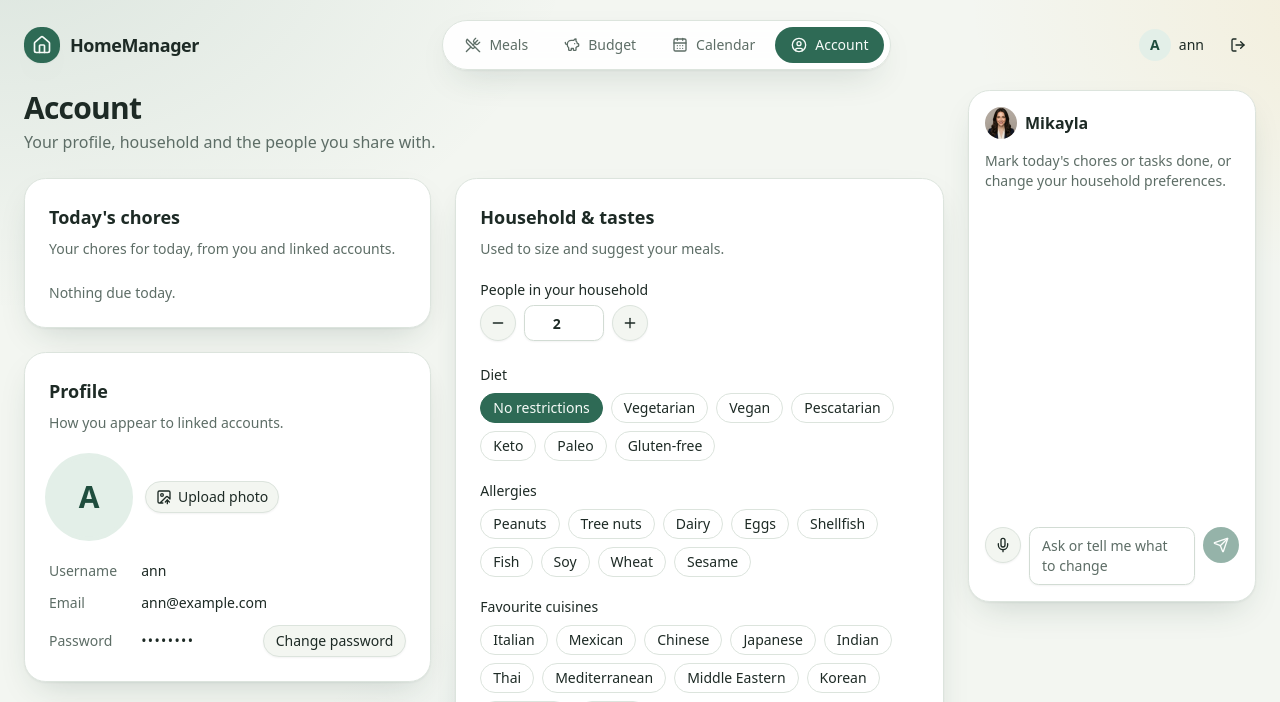
Test: AccountPage › rejects a short new password
Click the button "Change password" at (334, 641), box [263, 625, 406, 657]
(page scrolled)
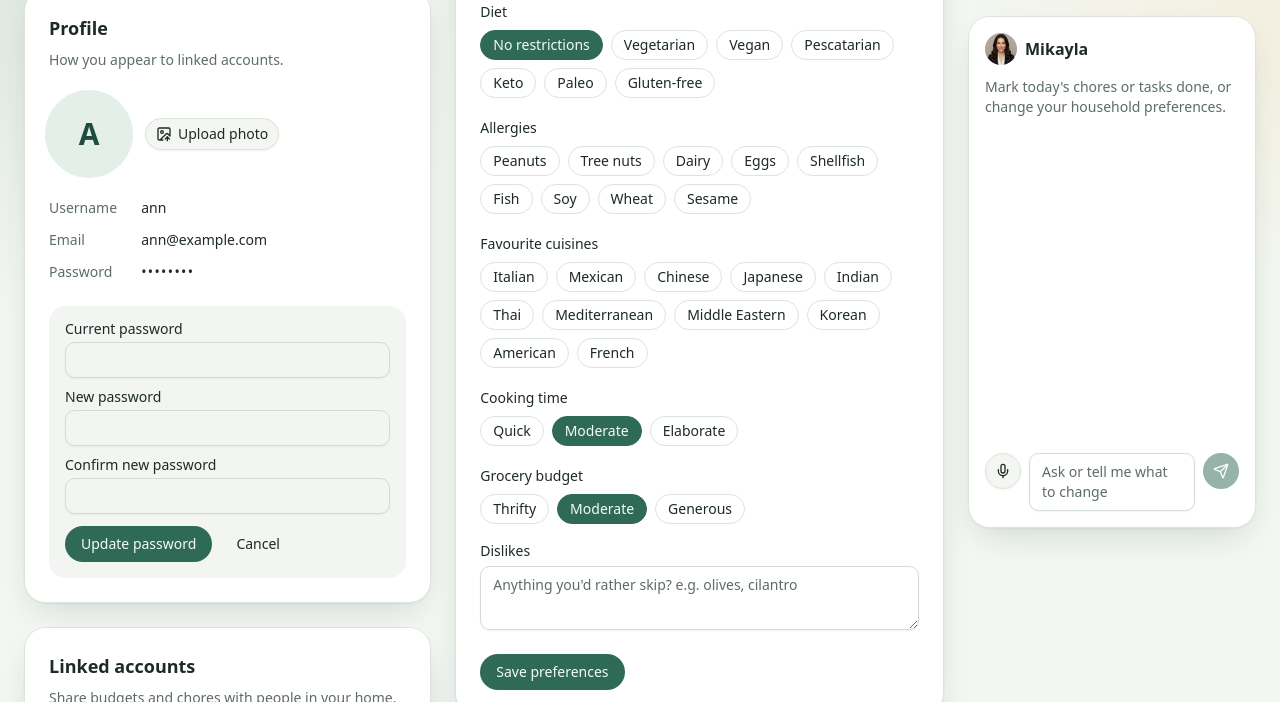
Type "old-password" into the password field labelled "Current password" at (228, 360), box [65, 342, 390, 378]
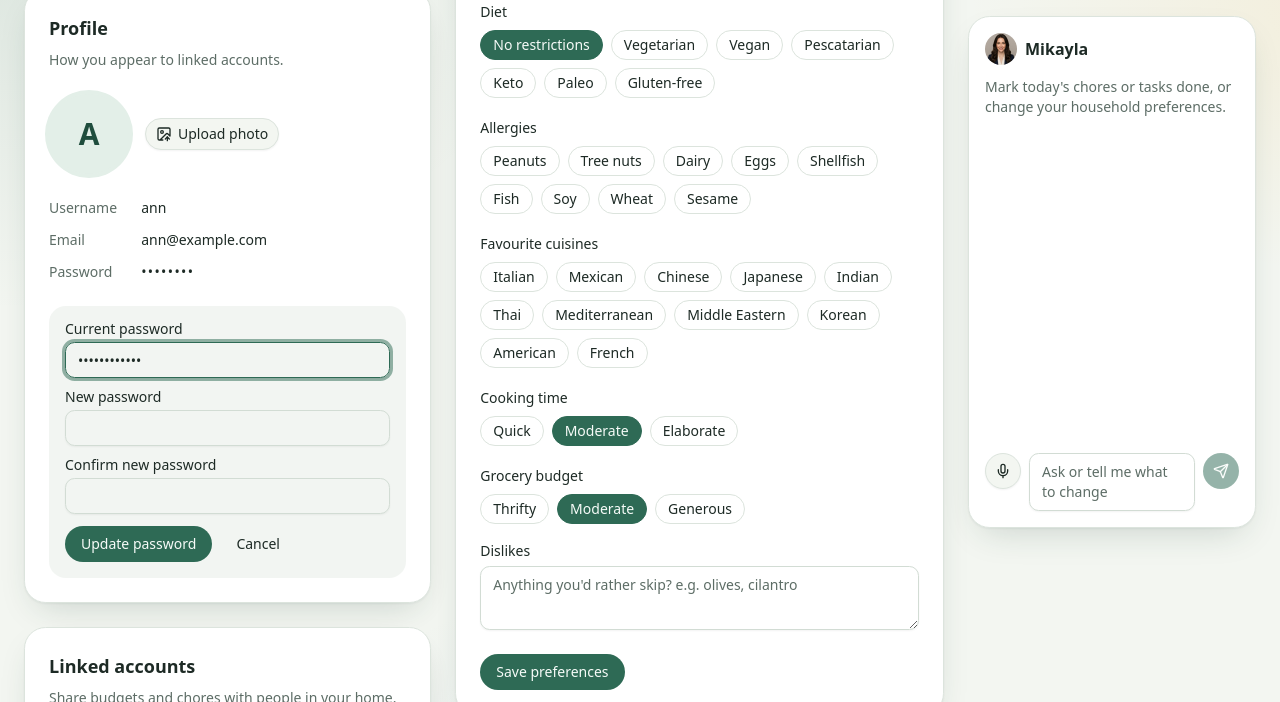
Type "short" into the password field labelled "New password" at (228, 428), box [65, 410, 390, 446]
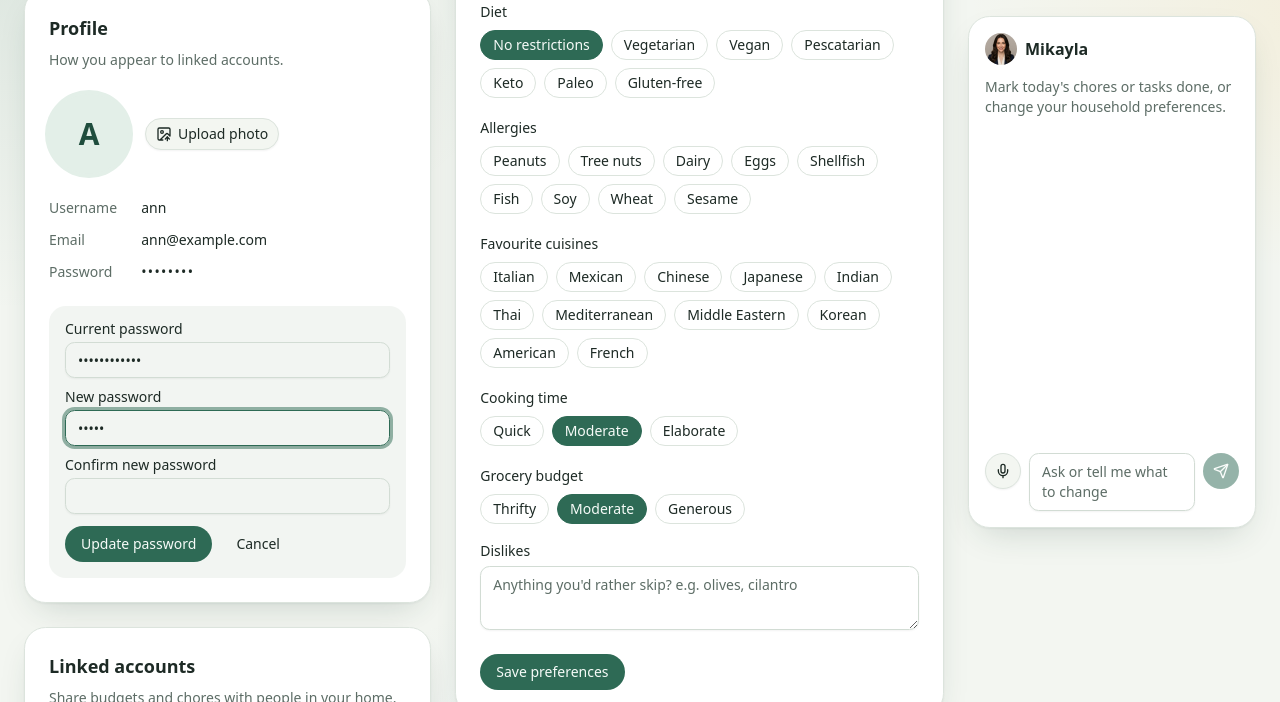
Type "short" into the password field labelled "Confirm new password" at (228, 496), box [65, 478, 390, 514]
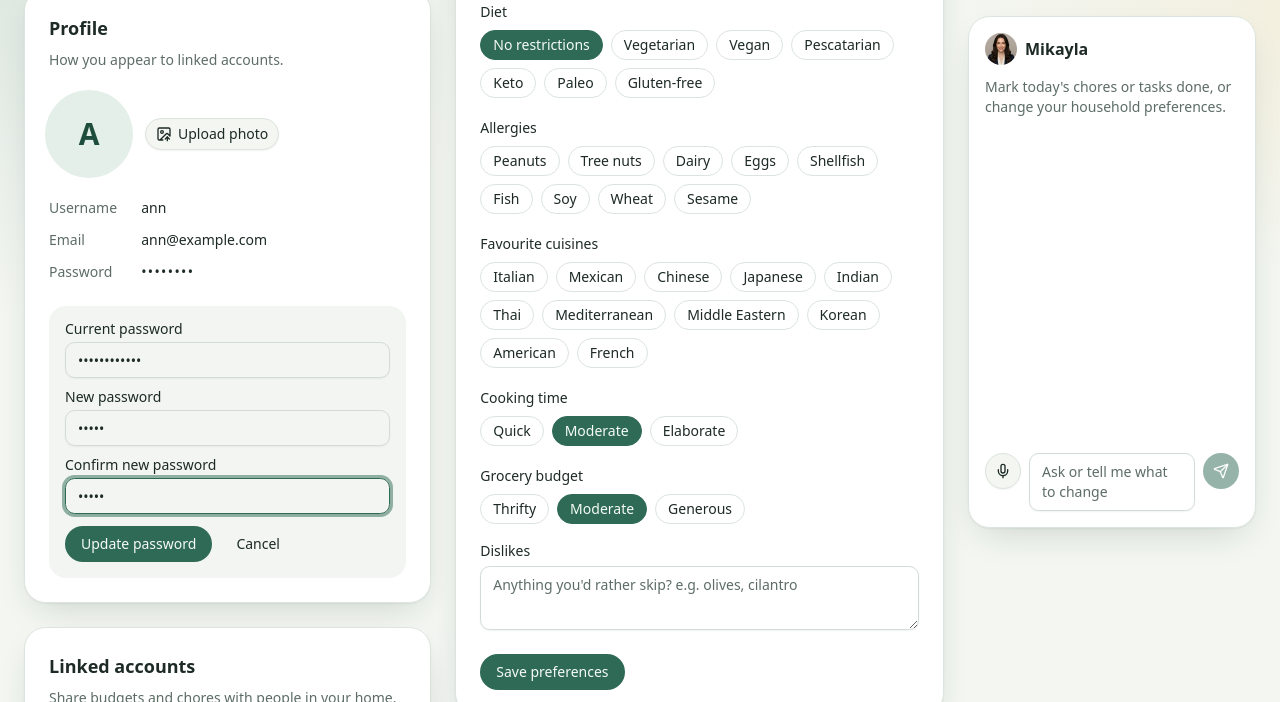
Click the button "Update password" at (139, 544), box [65, 526, 212, 562]
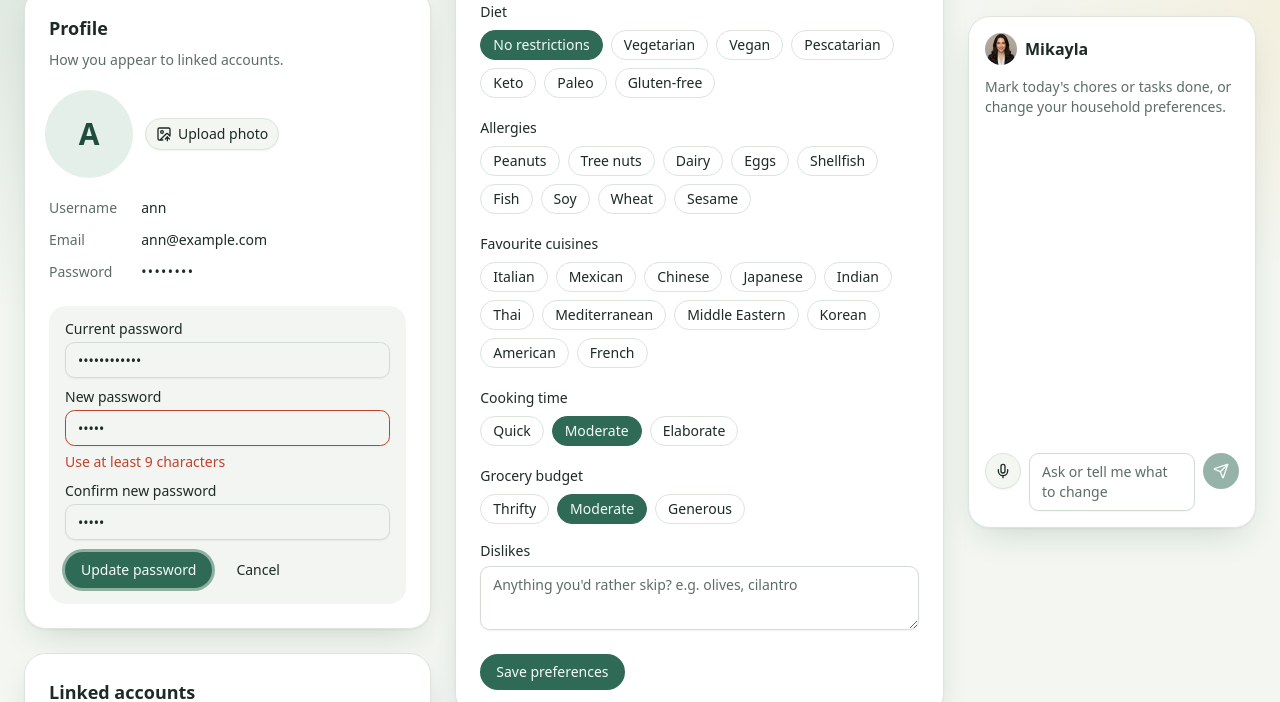
Check: the text "Use at least 9 characters" is shown, box [65, 452, 225, 471]
